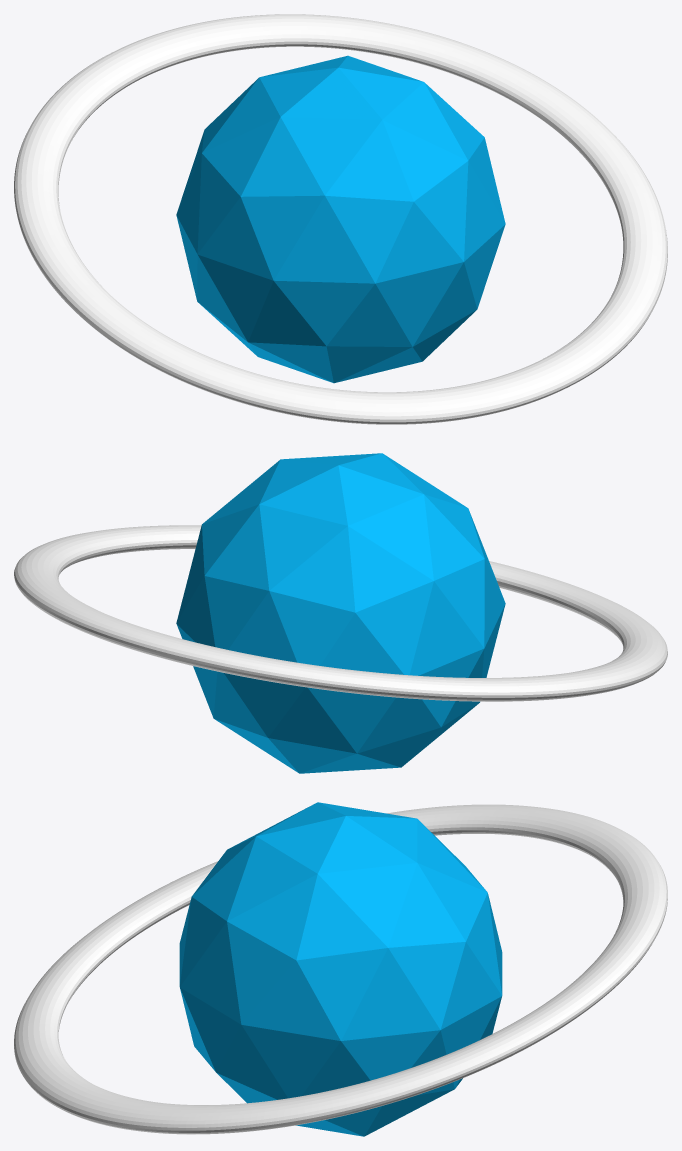
The model's file is first_planet.glb.
3 renders of one model, top to bottom at view 1: azimuth 30°, elevation 25°; view 2: azimuth 150°, elevation 25°; view 3: azimuth 270°, elevation 25°, orthographic. The views are drawn at different scales.
Visible parts, largest first — view 1: Icosahedron, Torus; view 2: Icosahedron, Torus; view 3: Icosahedron, Torus.
Boxes of the visible parts, x1,y1,x2,y2 form: Icosahedron: (176, 55, 505, 383); Torus: (14, 14, 667, 424); Icosahedron: (176, 453, 505, 773); Torus: (14, 525, 667, 701); Icosahedron: (179, 802, 502, 1136); Torus: (14, 804, 667, 1134).
Bounding box in the file's own units: 1.99 × 0.9996 × 1.93.
